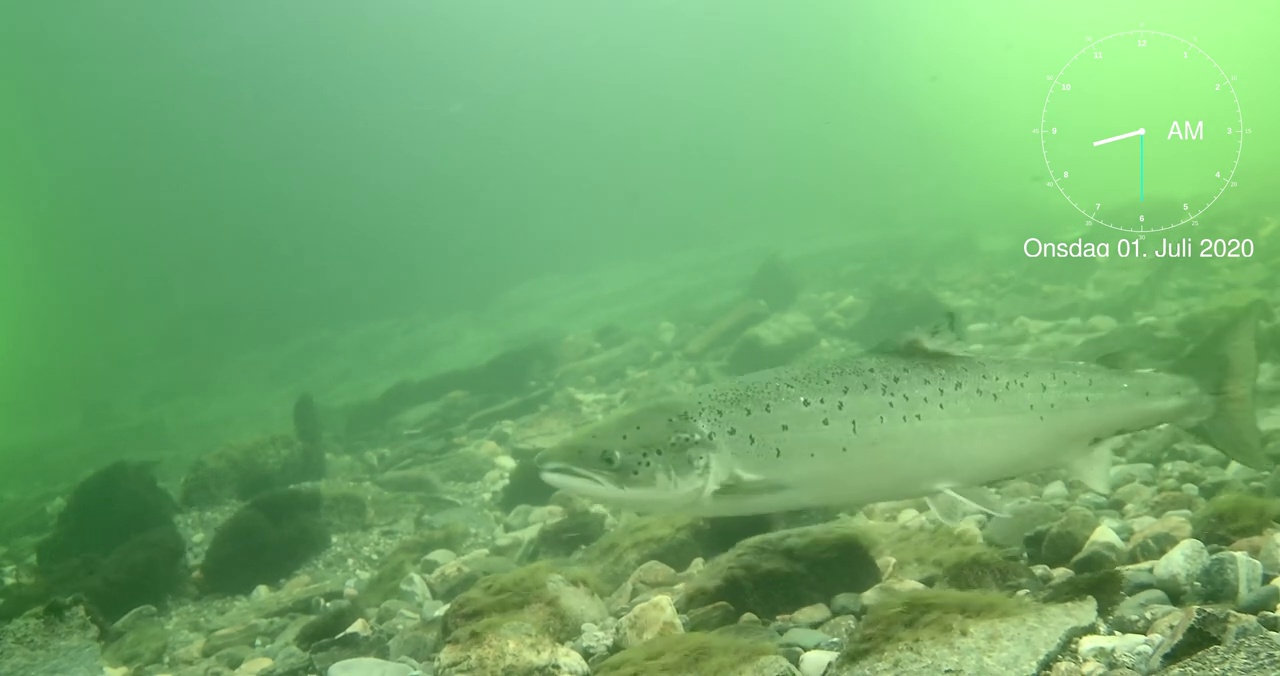salmon: (531, 298, 1276, 530)
